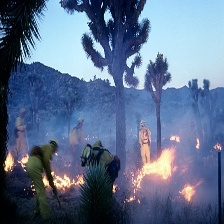fire: (133, 146, 175, 192), (39, 171, 87, 191), (1, 151, 32, 173), (180, 180, 196, 204), (169, 133, 186, 143), (109, 181, 119, 196), (194, 132, 200, 154), (213, 141, 224, 153), (125, 195, 141, 203)
